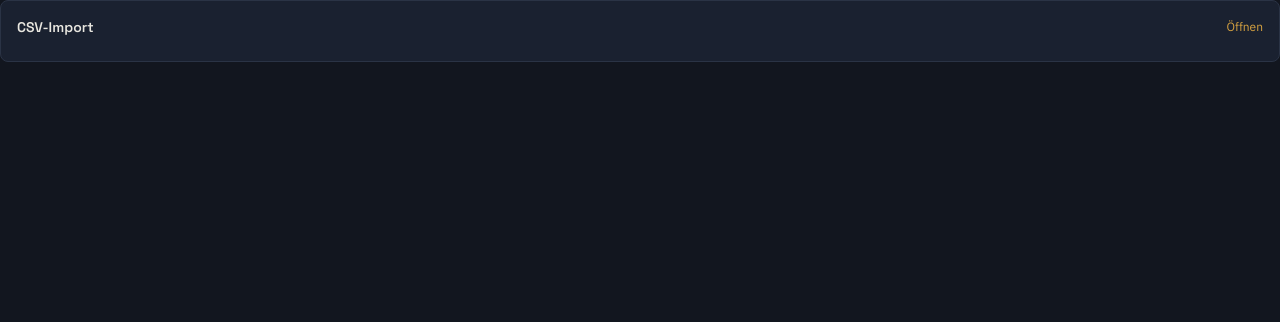
CsvImport › übernimmt eingefügte Zeilen und meldet die Anzahl
Click the button "Öffnen": point(1245, 27) [1226,19,1263,35]
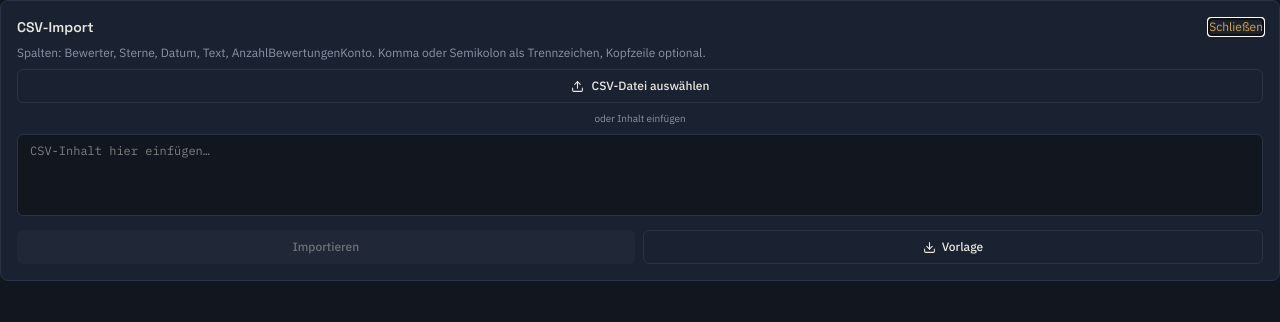
In the text box labelled "CSV-Inhalt hier einfügen…": point(640, 175) [17,134,1263,216], type "A,1,2026-08-10,Erste Bewertung,3"
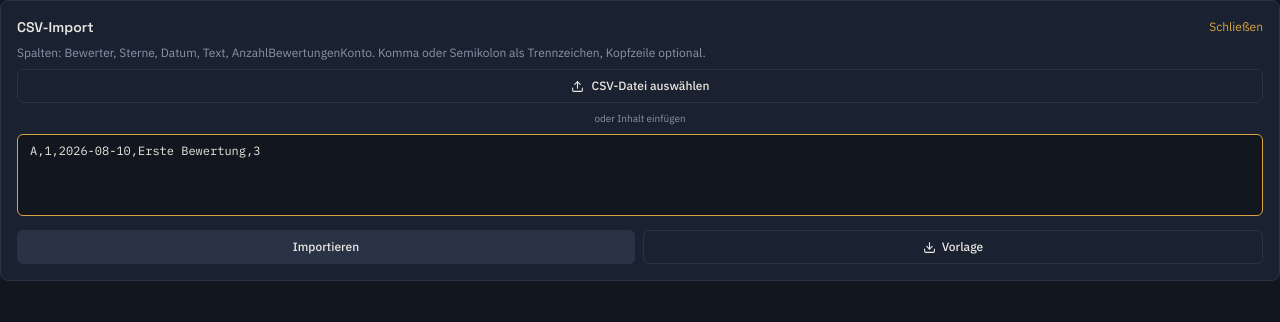
Click the button "Importieren": point(326, 247) [17,230,635,264]
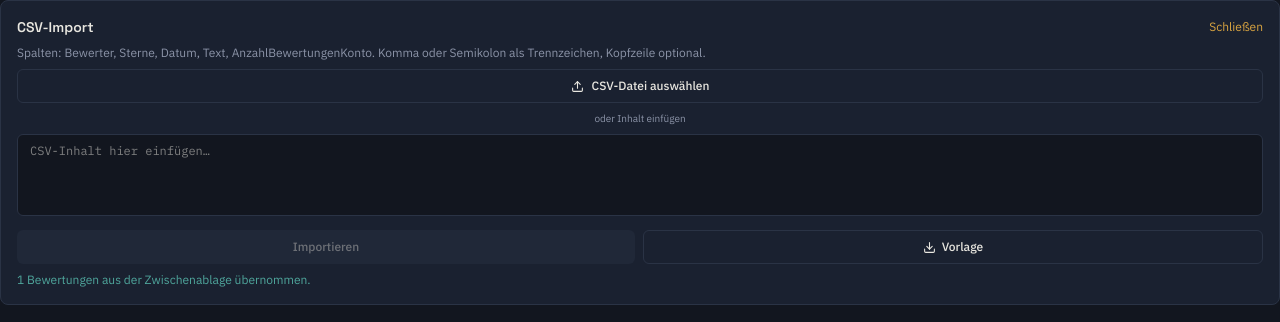
Expected: the message shows "1 Bewertungen", [17,272,310,287]
